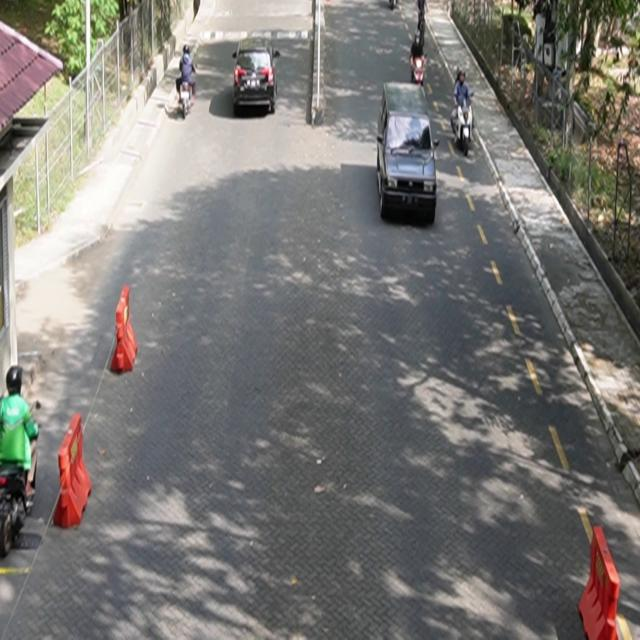car: (377, 82, 440, 225), (233, 37, 281, 116)
